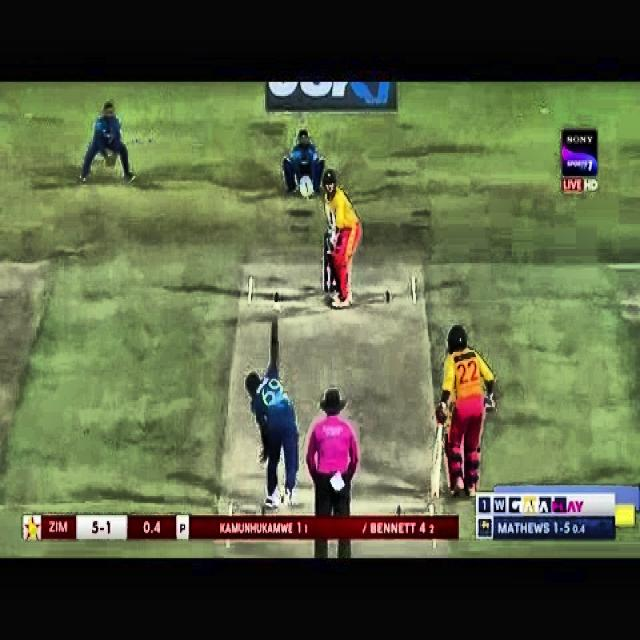Left-stump: (324, 236, 328, 292)
Middle-stump: (330, 269, 334, 292)
